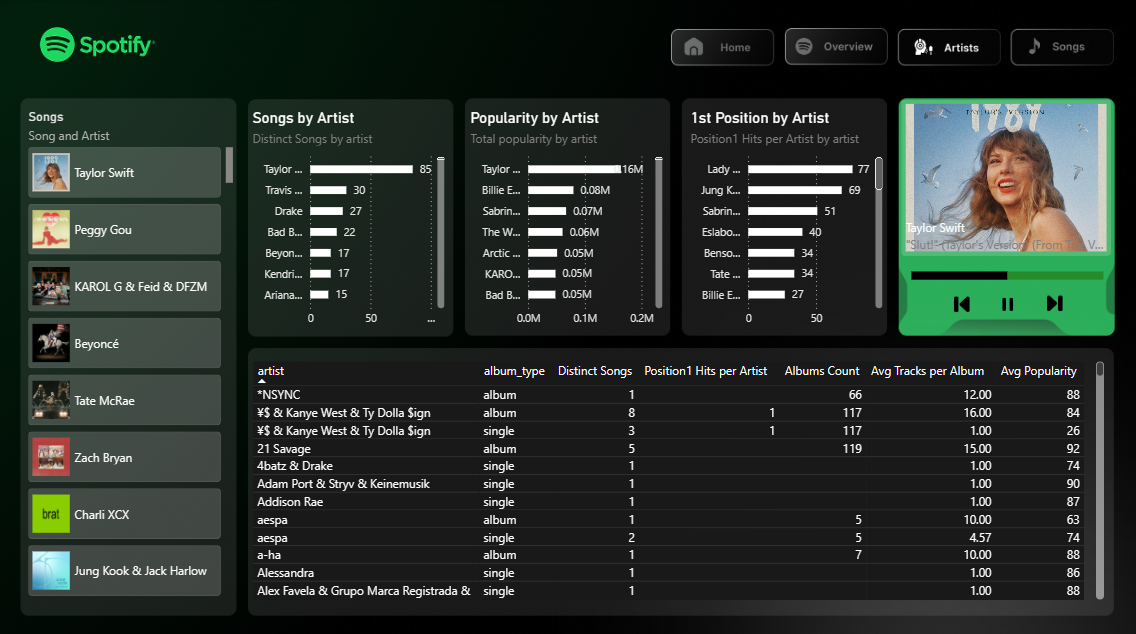

Layout of this report page (visuals, bound fields, positions):
{"tool":"powerbi","page":{"name":"Artist","canvas":[1280,720],"ordinal":2},"visuals":[{"type":"actionButton","box":[880.9,32.6,118.1,40.5],"z":0},{"type":"actionButton","box":[1010.2,32.6,109.1,40.5],"z":1000},{"type":"actionButton","box":[1137.4,32.6,118.1,40.5],"z":2000},{"type":"actionButton","box":[751.5,32.6,118.1,40.5],"z":3000},{"type":"advancedSlicerVisual","title":"Songs","fields":{"Values":["Top-50-world.song"]},"box":[990,108,286.9,186.8],"z":4000},{"type":"hundredPercentStackedBarChart","fields":{"Y":["Avg(Top-50-world.popularity)","_Measure.Avg Popularity"]},"box":[1020.9,267.9,226.2,81],"z":5000},{"type":"image","box":[1062.6,328.6,40,30],"z":6000},{"type":"image","box":[1167.8,327.4,40,30],"z":7000},{"type":"image","box":[1115.2,328,40,30],"z":8000},{"type":"shape","box":[1017,108,230.6,300.4],"z":9000},{"type":"clusteredBarChart","title":"Songs by Artist","fields":{"Y":["_Measure.Distinct Songs"],"Category":["Top-50-world.artist"]},"box":[280.1,123.8,226.1,253.1],"z":10000},{"type":"clusteredBarChart","title":"Popularity by Artist","fields":{"Y":["Sum(Top-50-world.popularity)"],"Category":["Top-50-world.artist"]},"box":[525.4,123.8,226.1,253.1],"z":11000},{"type":"advancedSlicerVisual","title":"Songs","fields":{"Values":["Top-50-world.song"]},"box":[28.1,123.8,240.8,556.9],"z":12000},{"type":"clusteredBarChart","title":"1st Position by Artist","fields":{"Y":["_Measure.Position1 Hits per Artist"],"Category":["Top-50-world.artist"]},"box":[772.9,123.8,226.1,253.1],"z":13000},{"type":"tableEx","fields":{"Values":["Top-50-world.artist","Top-50-world.album_type","_Measure.Distinct Songs","_Measure.Position1 Hits per Artist","_Measure.Albums Count","_Measure.Avg Tracks per Album","_Measure.Avg Popularity"]},"box":[280,402.6,968.5,277.7],"z":13001}]}

Visuals, with their boxes in screenshot pixels (x1, y1, x2, y2), scaled from the page's 1280x720 canvas onto the 1136x634 screenshot:
actionButton: (left=782, top=29, right=887, bottom=64)
actionButton: (left=897, top=29, right=993, bottom=64)
actionButton: (left=1009, top=29, right=1114, bottom=64)
actionButton: (left=667, top=29, right=772, bottom=64)
"Songs" advancedSlicerVisual: (left=879, top=95, right=1133, bottom=260)
hundredPercentStackedBarChart - Avg(Top-50-world.popularity) x _Measure.Avg Popularity: (left=906, top=236, right=1107, bottom=307)
image: (left=943, top=289, right=979, bottom=316)
image: (left=1036, top=288, right=1072, bottom=315)
image: (left=990, top=289, right=1025, bottom=315)
shape: (left=903, top=95, right=1107, bottom=360)
"Songs by Artist" clusteredBarChart: (left=249, top=109, right=449, bottom=332)
"Popularity by Artist" clusteredBarChart: (left=466, top=109, right=667, bottom=332)
"Songs" advancedSlicerVisual: (left=25, top=109, right=239, bottom=599)
"1st Position by Artist" clusteredBarChart: (left=686, top=109, right=887, bottom=332)
tableEx - Top-50-world.artist x Top-50-world.album_type: (left=248, top=355, right=1108, bottom=599)
